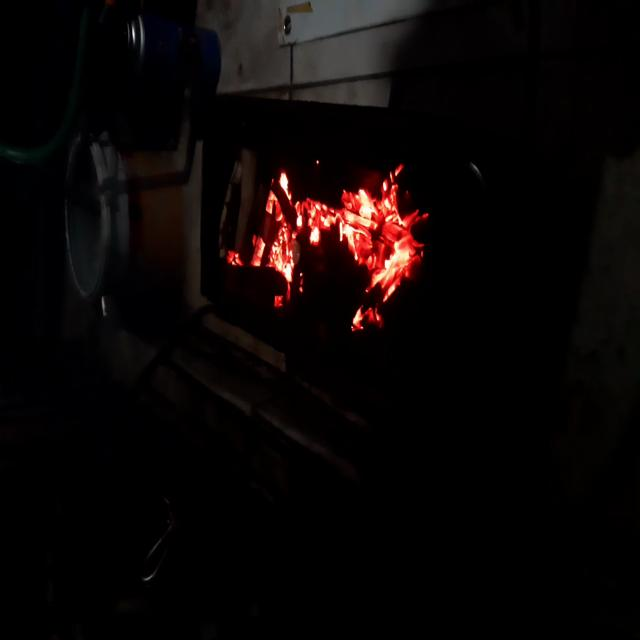Fire: (256, 153, 417, 321)
